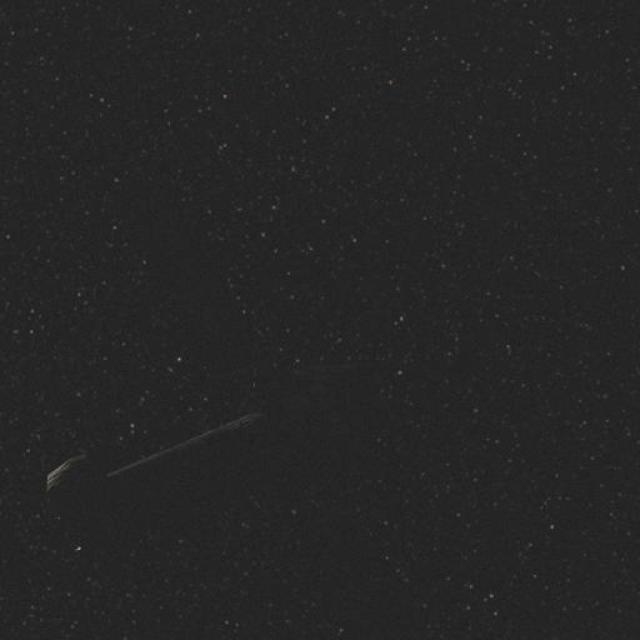xmm_newton: (46, 378, 289, 568)
